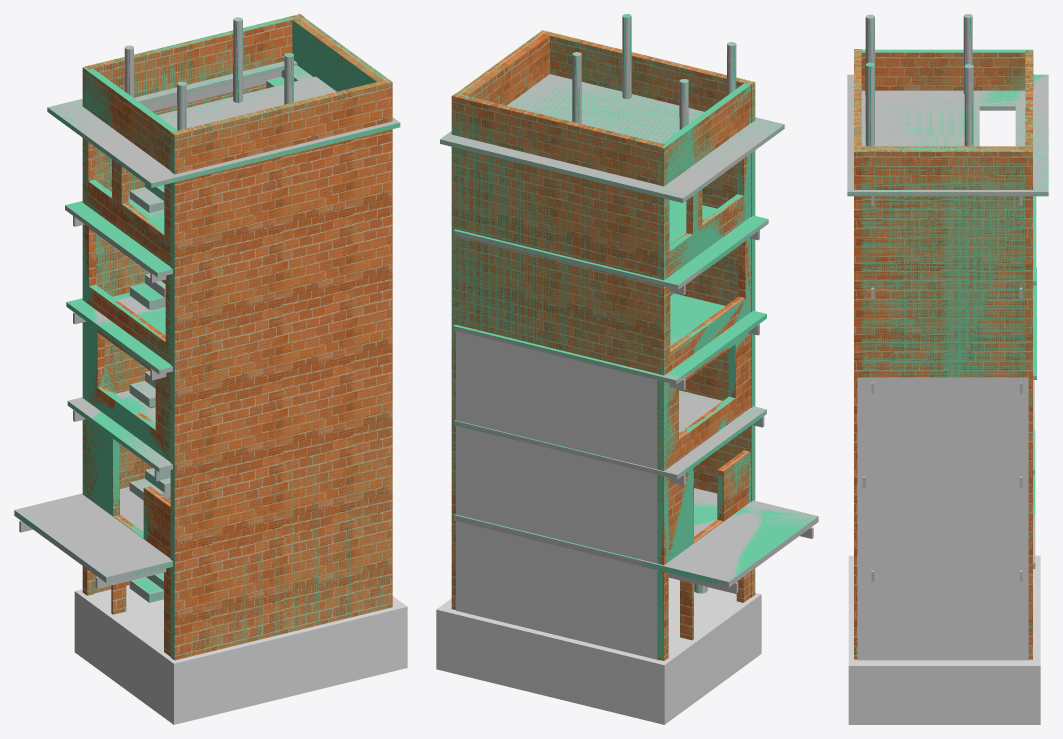
File: CASA 17.fbx
3 renders of one model, left to right at view 1: azimuth 30°, elevation 25°; view 2: azimuth 150°, elevation 25°; view 3: azimuth 270°, elevation 25°, orthographic. The views are drawn at different scales.
Parts seen in each view (by area): view 1: CASA17_LOD0, UTM_CASA17, Cube_LOD0; view 2: CASA17_LOD0, UTM_CASA17, OCC_Oclusion1, Cube_LOD0; view 3: CASA17_LOD0, OCC_Oclusion2, UTM_CASA17, Cube_LOD0.
Part boxes in pixels (bbox=[...]): CASA17_LOD0: bbox=[14, 14, 400, 660]; UTM_CASA17: bbox=[14, 15, 400, 659]; Cube_LOD0: bbox=[74, 585, 407, 724]; CASA17_LOD0: bbox=[440, 14, 818, 660]; UTM_CASA17: bbox=[440, 14, 817, 660]; OCC_Oclusion1: bbox=[456, 331, 659, 660]; Cube_LOD0: bbox=[436, 577, 761, 724]; CASA17_LOD0: bbox=[847, 14, 1048, 659]; OCC_Oclusion2: bbox=[857, 377, 1028, 660]; UTM_CASA17: bbox=[847, 14, 1048, 659]; Cube_LOD0: bbox=[848, 555, 1040, 724].
Size of what is drawn, in the model's own units: 1022 by 2062 by 616.
